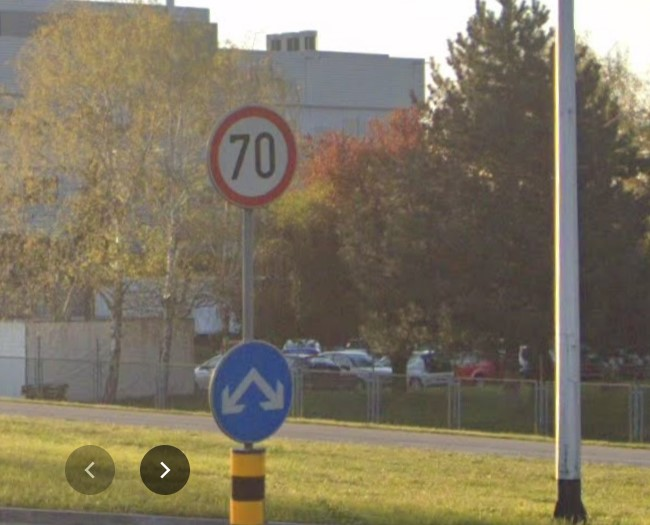Ograničenje brzine 70: (207, 103, 299, 208)
